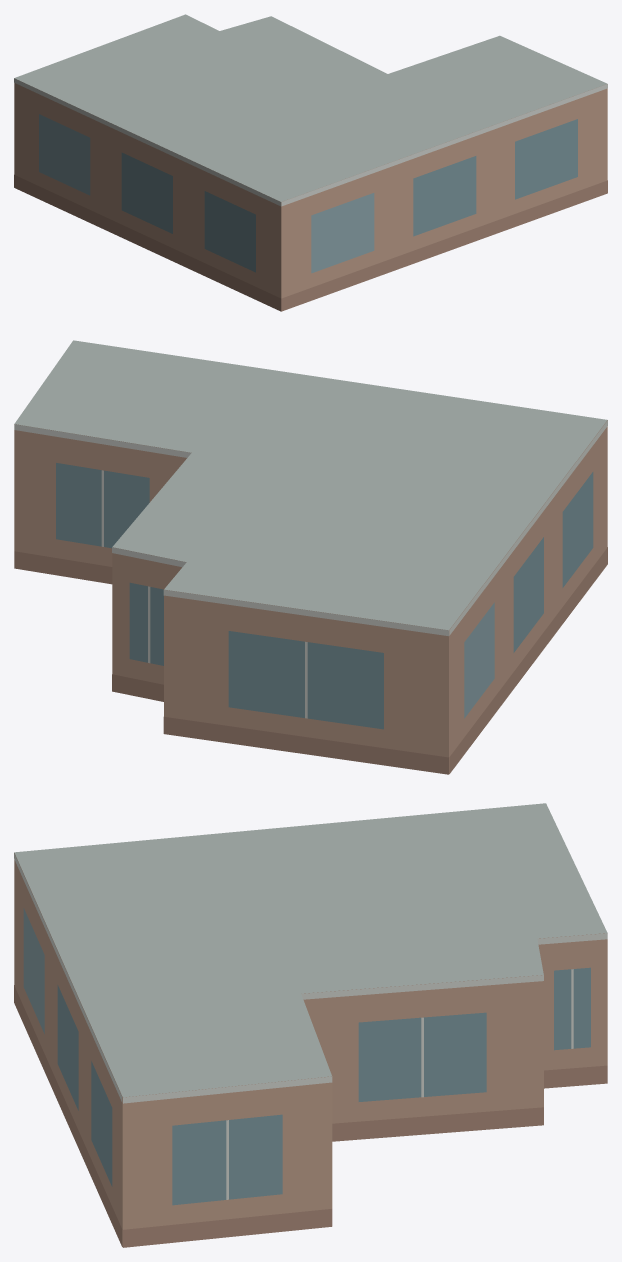
The model's file is survey-upis-32606823.glb.
The picture shows the model from 3 angles, top to bottom: view 1: azimuth 30°, elevation 25°; view 2: azimuth 150°, elevation 25°; view 3: azimuth 270°, elevation 25°; orthographic projection. The views are drawn at different scales.
Visible parts, largest first — view 1: survey-upis-32606823.tmp; view 2: survey-upis-32606823.tmp; view 3: survey-upis-32606823.tmp.
Part boxes in pixels (x1=…): survey-upis-32606823.tmp: x1=14, y1=14, x2=607, y2=311; survey-upis-32606823.tmp: x1=14, y1=340, x2=607, y2=774; survey-upis-32606823.tmp: x1=14, y1=803, x2=607, y2=1247.
Bounding box in the file's own units: 12.82 × 3.05 × 10.92.
